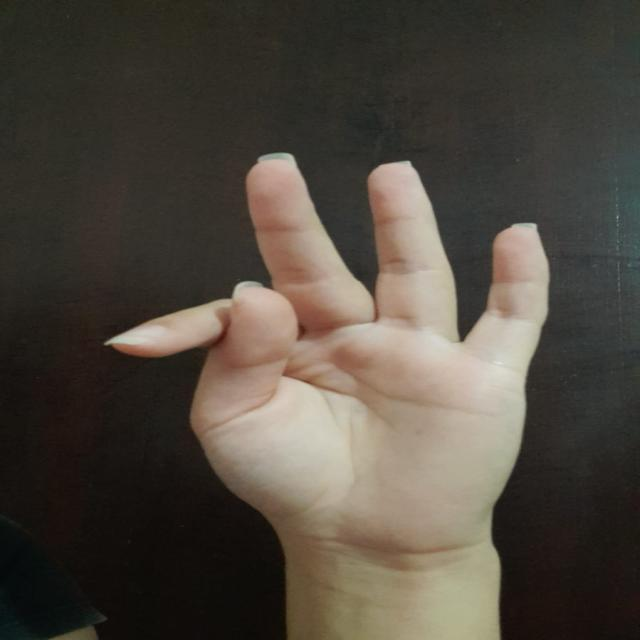T: (89, 148, 562, 554)
